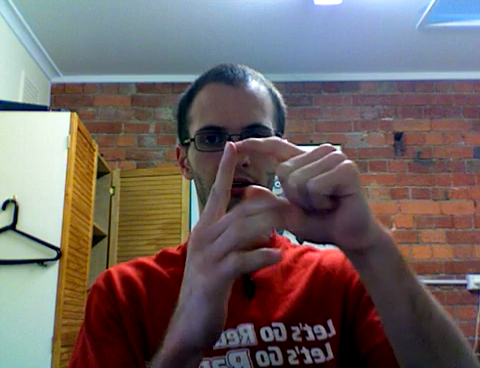D: (166, 133, 375, 345)
